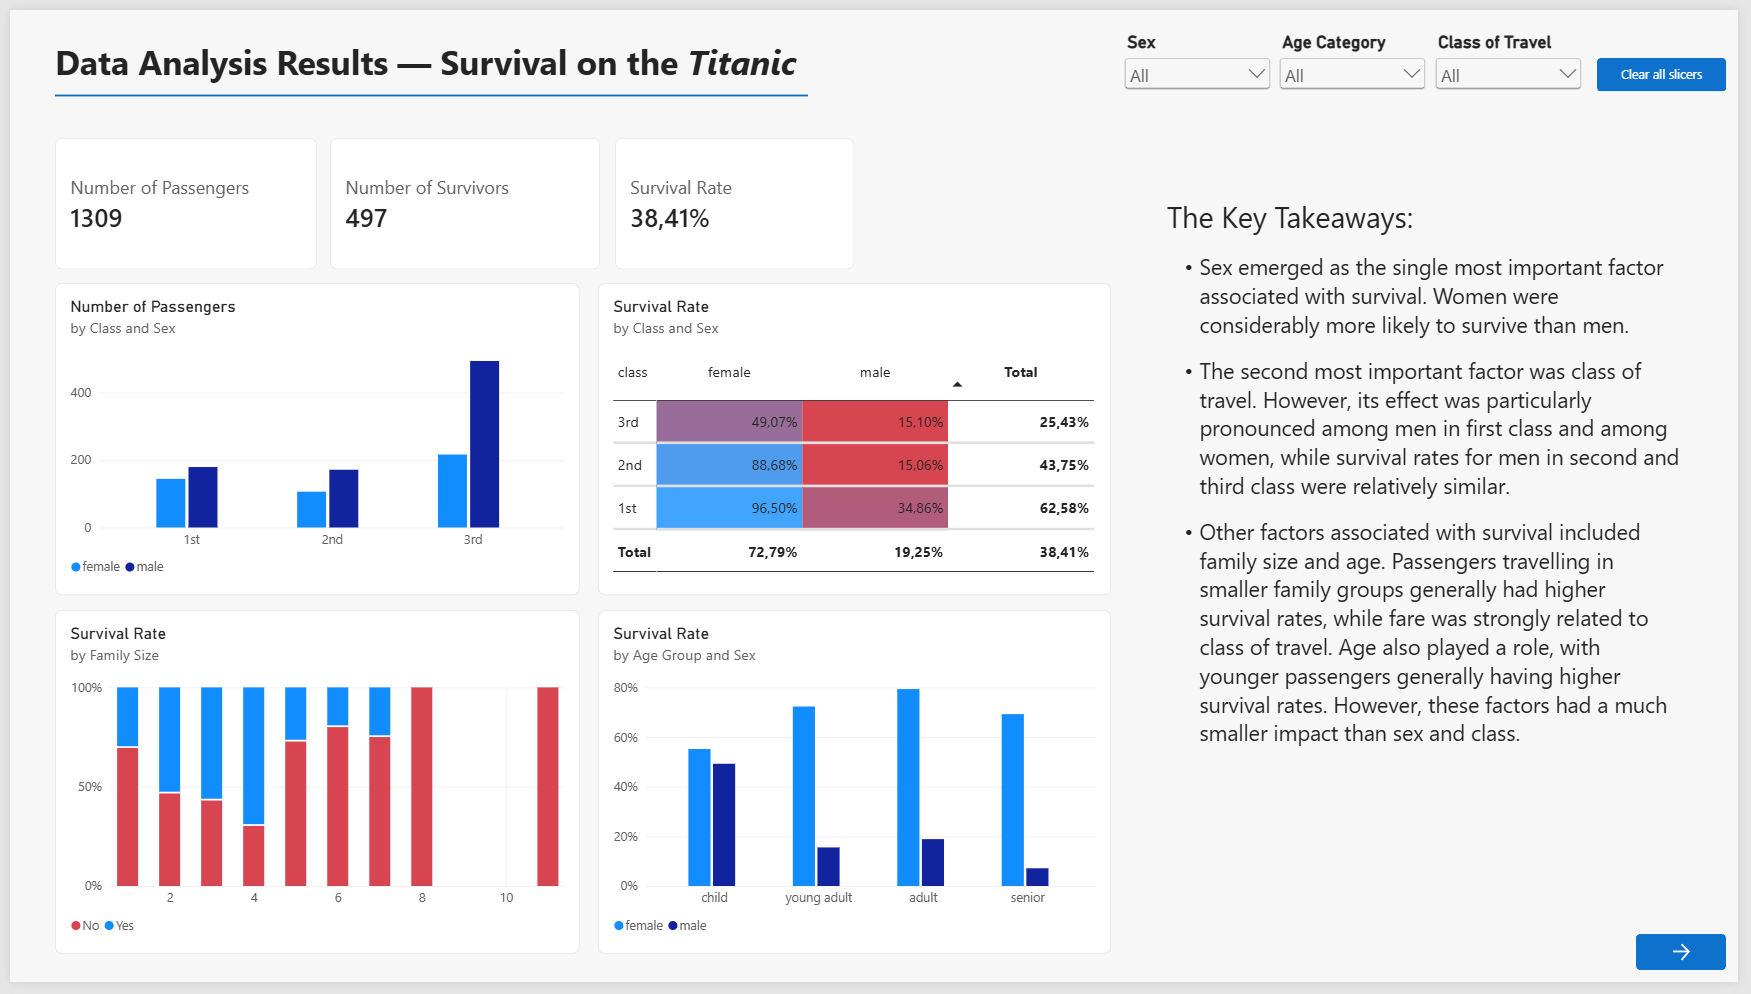

The dashboard page shown, as its layout file describes it:
{"tool":"powerbi","page":{"name":"I - Survival Predictors","canvas":[1920,1080],"ordinal":0},"visuals":[{"type":"slicer","fields":{"Values":["titanic_clean.sex"]},"box":[1233.7,24.4,172.3,129.3],"z":0},{"type":"cardVisual","fields":{"Data":["titanic_clean.Survival Rate"]},"box":[671.9,142.3,266.2,146.2],"z":0,"group":"g1"},{"type":"slicer","fields":{"Values":["titanic_clean.age_group"]},"box":[1406,24.4,172.3,132.1],"z":1000},{"type":"cardVisual","fields":{"Data":["CountNonNull(titanic_clean.survived)"]},"box":[50,142,291.7,146.7],"z":1000,"group":"g1"},{"type":"slicer","fields":{"Values":["titanic_clean.class"]},"box":[1578.4,24.4,172.3,132.1],"z":2000},{"type":"clusteredColumnChart","title":"Number of Passengers","fields":{"Category":["titanic_clean.class"],"Series":["titanic_clean.sex"],"Y":["titanic_clean.Number of Observations"]},"box":[50,303.3,583.3,346.7],"z":3000},{"type":"hundredPercentStackedColumnChart","title":"Survival Rate","fields":{"Category":["titanic_clean.family_size"],"Series":["titanic_clean.survived"],"Y":["CountNonNull(titanic_clean.survived)"]},"box":[50,666.7,583.3,381.7],"z":4000},{"type":"clusteredColumnChart","title":"Survival Rate","fields":{"Category":["titanic_clean.age_group"],"Series":["titanic_clean.sex"],"Y":["titanic_clean.Survival Rate"]},"box":[653.3,666.7,570,381.7],"z":5000},{"type":"pivotTable","title":"Survival Rate","fields":{"Columns":["titanic_clean.sex"],"Rows":["titanic_clean.class"],"Values":["titanic_clean.Survival Rate"]},"box":[653.3,303.3,570,346.7],"z":6000},{"type":"textbox","box":[50,31.7,910,63.3],"z":7000},{"type":"cardVisual","fields":{"Data":["Sum(titanic_clean.survived_num)"]},"box":[355,142,300,146.7],"z":7003,"group":"g1"},{"type":"shape","box":[50,53.3,836.7,83.3],"z":8000},{"type":"actionButton","box":[1806.7,1026.7,100,40],"z":9000},{"type":"textbox","box":[1285,206.7,571.7,793.3],"z":10000},{"type":"group","id":"g1","title":"Group 1","box":[50,142,888,148],"z":11000},{"type":"actionButton","box":[1763.6,53.1,143.6,37.3],"z":12000}]}

Visuals, with their boxes in screenshot pixels (x1, y1, x2, y2), scaled from the page's 1920x1080 canvas onto the 1751x994 screenshot:
slicer - titanic_clean.sex: 1125, 22, 1282, 141
cardVisual - titanic_clean.Survival Rate: 613, 131, 856, 266
slicer - titanic_clean.age_group: 1282, 22, 1439, 144
cardVisual - CountNonNull(titanic_clean.survived): 46, 131, 312, 266
slicer - titanic_clean.class: 1439, 22, 1597, 144
"Number of Passengers" clusteredColumnChart: 46, 279, 578, 598
"Survival Rate" hundredPercentStackedColumnChart: 46, 614, 578, 965
"Survival Rate" clusteredColumnChart: 596, 614, 1116, 965
"Survival Rate" pivotTable: 596, 279, 1116, 598
textbox: 46, 29, 876, 87
cardVisual - Sum(titanic_clean.survived_num): 324, 131, 597, 266
shape: 46, 49, 809, 126
actionButton: 1648, 945, 1739, 982
textbox: 1172, 190, 1693, 920
"Group 1" group: 46, 131, 855, 267
actionButton: 1608, 49, 1739, 83
